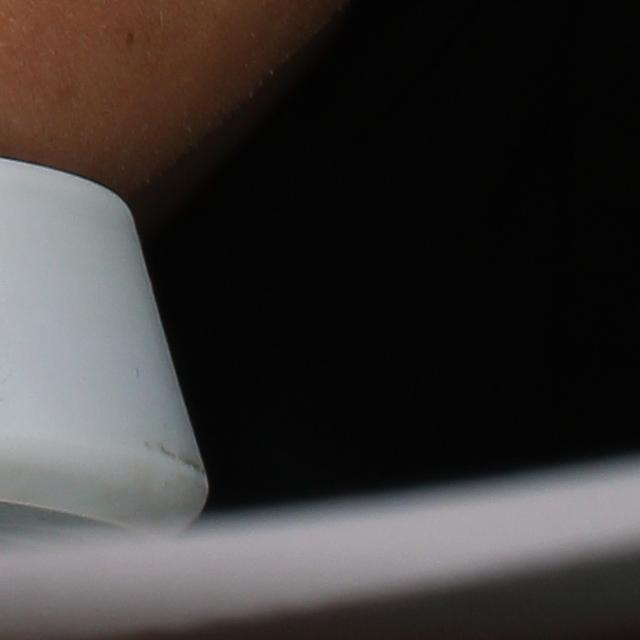nevus: (123, 30, 136, 47)
